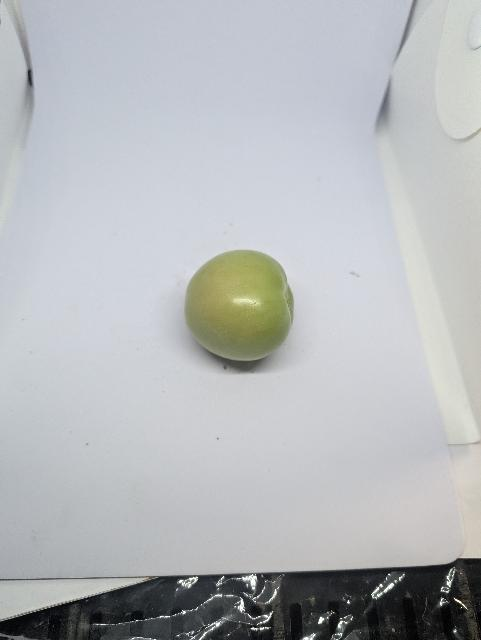green: (182, 247, 299, 364)
